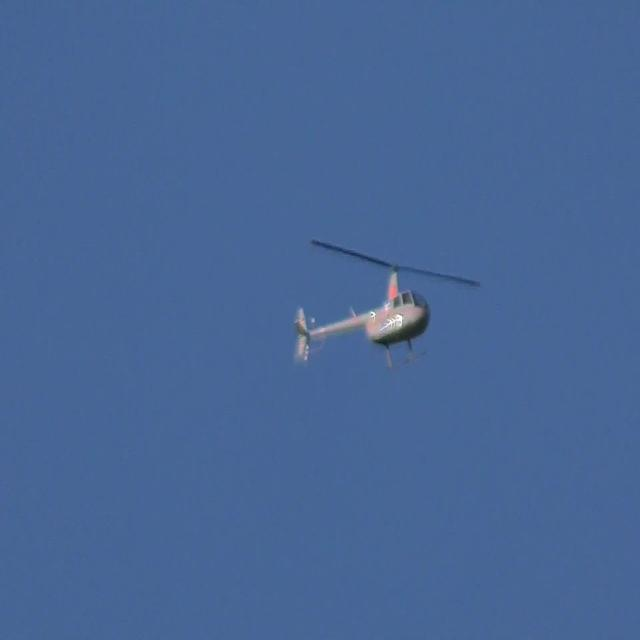CIV_HELO: (294, 265, 433, 382)
